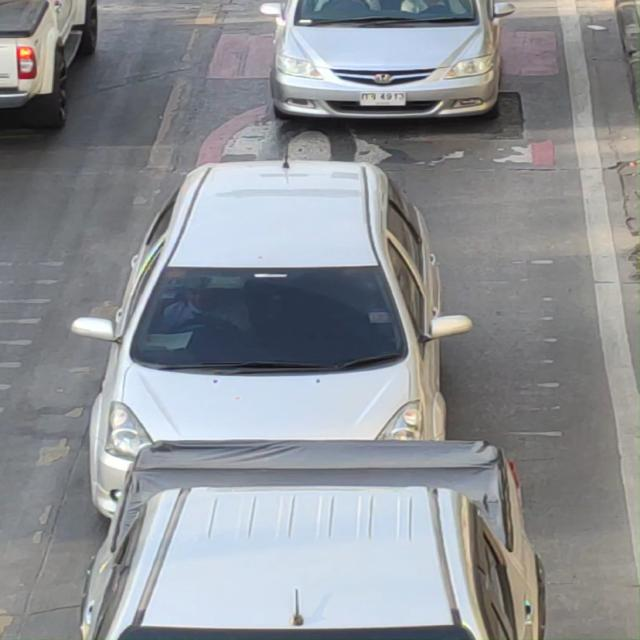car: (99, 164, 469, 567), (245, 0, 538, 131)
